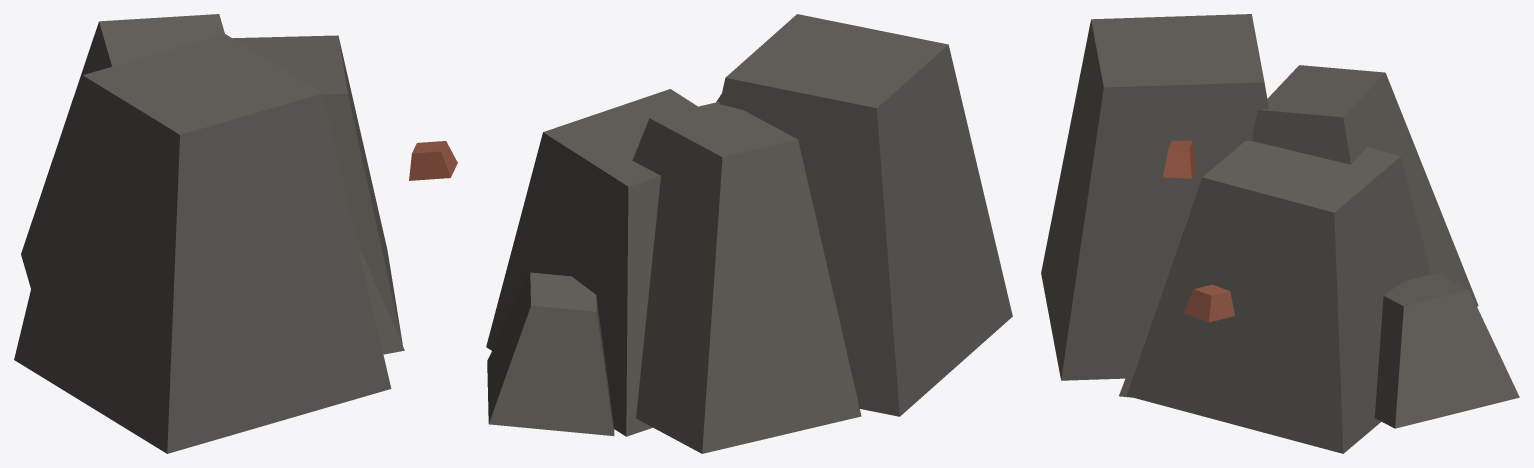
File: iron_node_01.glb
The picture shows the model from 3 angles, left to right: view 1: azimuth 30°, elevation 25°; view 2: azimuth 150°, elevation 25°; view 3: azimuth 270°, elevation 25°; orthographic projection. The views are drawn at different scales.
Visible parts, largest first — view 1: iron_node_01_lod0; view 2: iron_node_01_lod0; view 3: iron_node_01_lod0.
Part boxes in pixels (box(x1,y1,x2,y2)): iron_node_01_lod0: box(14, 14, 457, 453); iron_node_01_lod0: box(486, 14, 1012, 453); iron_node_01_lod0: box(1041, 14, 1519, 453).
Size of what is drawn, in the model's own units: 3.35 by 2.39 by 3.71.
